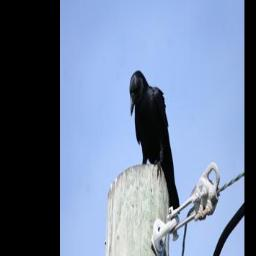Crow: (128, 69, 180, 216)
